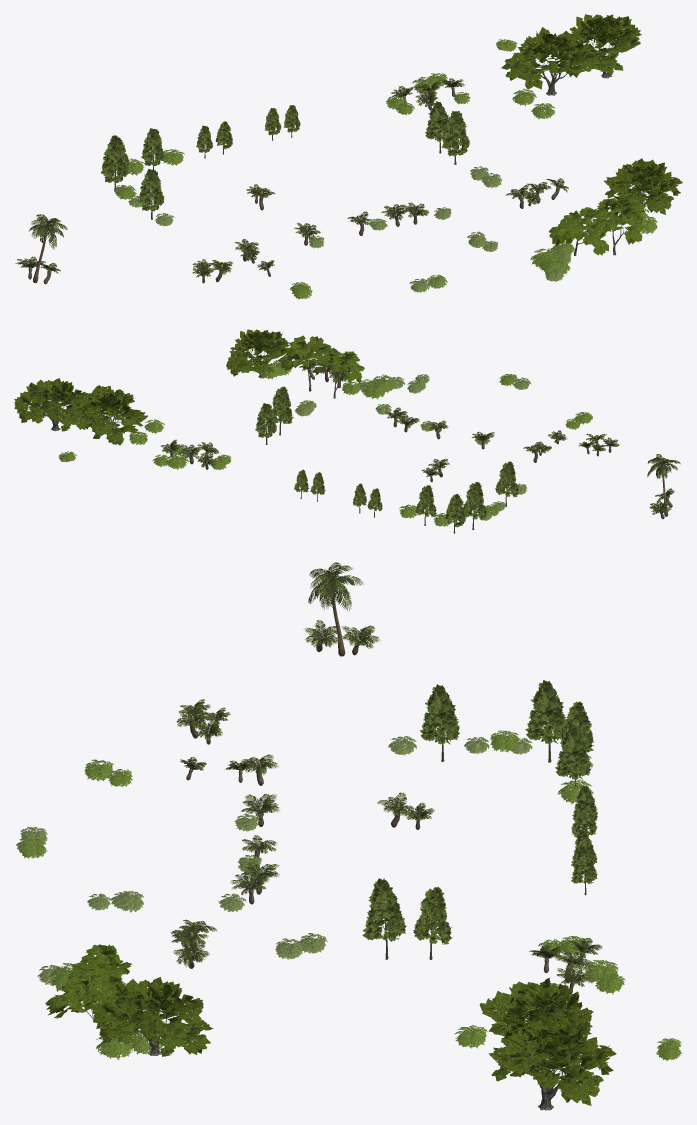
Rendered from Tree_gojuga.fbx.
The picture shows the model from 3 angles, top to bottom: view 1: azimuth 30°, elevation 25°; view 2: azimuth 150°, elevation 25°; view 3: azimuth 270°, elevation 25°; orthographic projection. The views are drawn at different scales.
Visible parts, largest first — view 1: Deciduous_08_leaves_8, Deciduous_08_leaves_9, Deciduous_08_leaves_10, Deciduous_013_leaves, Deciduous_013_leaves_1, Deciduous_04_leaves_6, Deciduous_04_leaves_2, Deciduous_04_leaves_3, Leaf, Deciduous_04_leaves_5, Deciduous_04_leaves_7; view 2: Deciduous_08_leaves_8, Deciduous_08_leaves_9, Deciduous_08_leaves_10, Deciduous_013_leaves_1, Deciduous_013_leaves, Deciduous_04_leaves_2, Deciduous_04_leaves_6, Deciduous_04_leaves_3, Deciduous_04_leaves_7, Deciduous_04_leaves_4, Deciduous_04_leaves_5, Leaf (+1 smaller); view 3: Deciduous_08_leaves_9, Deciduous_08_leaves_10, Deciduous_08_leaves_8, Deciduous_013_leaves_1, Deciduous_04_leaves_6, Deciduous_04_leaves_2, Deciduous_04_leaves_3, Leaf, Deciduous_04_leaves_7, Deciduous_04_leaves_5, Deciduous_013_leaves.
Part boxes in pixels (x1,y1,x2,y2): Deciduous_08_leaves_8: [501, 27, 599, 89]; Deciduous_08_leaves_9: [559, 14, 641, 76]; Deciduous_08_leaves_10: [604, 158, 682, 214]; Deciduous_013_leaves: [549, 207, 611, 255]; Deciduous_013_leaves_1: [589, 193, 646, 244]; Deciduous_04_leaves_6: [441, 111, 469, 156]; Deciduous_04_leaves_2: [101, 138, 128, 183]; Deciduous_04_leaves_3: [138, 168, 164, 211]; Leaf: [29, 214, 67, 249]; Deciduous_04_leaves_5: [141, 128, 164, 166]; Deciduous_04_leaves_7: [425, 101, 448, 141]; Deciduous_08_leaves_8: [70, 385, 147, 445]; Deciduous_08_leaves_9: [14, 378, 88, 431]; Deciduous_08_leaves_10: [226, 329, 289, 376]; Deciduous_013_leaves_1: [278, 335, 340, 370]; Deciduous_013_leaves: [311, 347, 364, 383]; Deciduous_04_leaves_2: [463, 482, 487, 519]; Deciduous_04_leaves_6: [271, 386, 293, 423]; Deciduous_04_leaves_3: [495, 461, 519, 497]; Deciduous_04_leaves_7: [255, 403, 276, 438]; Deciduous_04_leaves_4: [445, 494, 466, 527]; Deciduous_04_leaves_5: [415, 485, 436, 517]; Leaf: [647, 454, 680, 478]; Deciduous_08_leaves_9: [488, 1016, 616, 1105]; Deciduous_08_leaves_10: [93, 977, 213, 1056]; Deciduous_08_leaves_8: [479, 977, 593, 1066]; Deciduous_013_leaves_1: [45, 961, 133, 1026]; Deciduous_04_leaves_6: [362, 878, 406, 941]; Deciduous_04_leaves_2: [525, 680, 566, 744]; Deciduous_04_leaves_3: [420, 684, 459, 745]; Leaf: [308, 562, 364, 611]; Deciduous_04_leaves_7: [413, 886, 452, 944]; Deciduous_04_leaves_5: [555, 725, 591, 780]; Deciduous_013_leaves: [61, 944, 131, 1006].
Size of the model in its own units: 9282 by 1288 by 5429.
